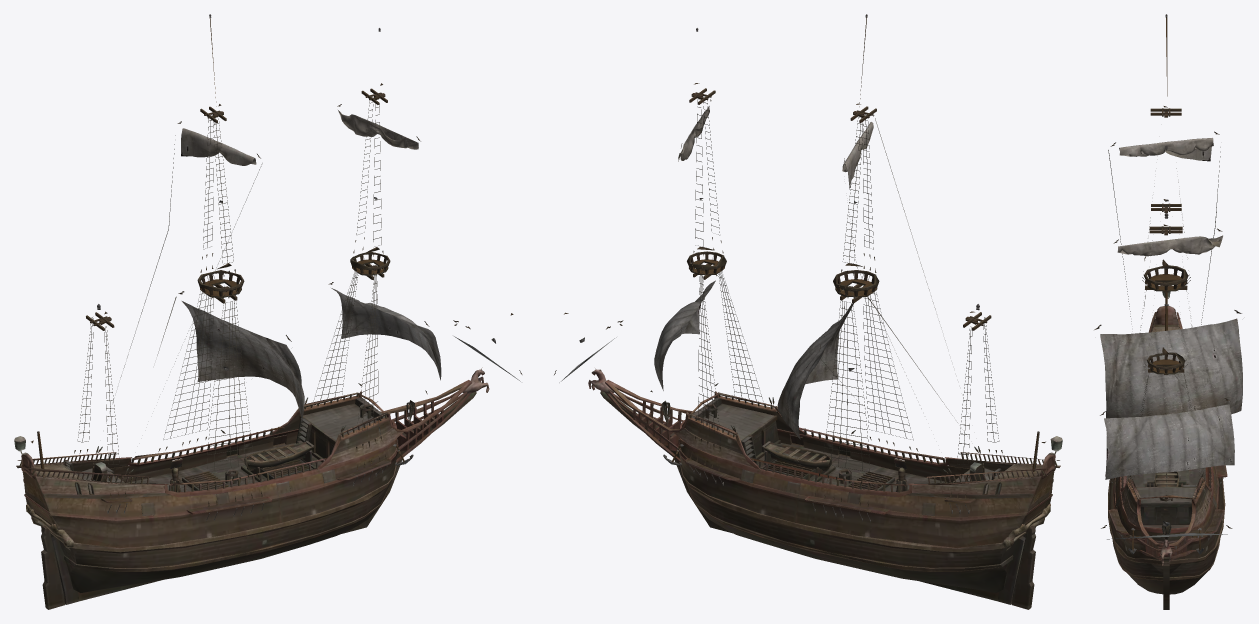
Rendered from dutch_ship_medium_lod1.glb.
3 views of the same model, side by side, from view 1: azimuth 30°, elevation 25°; view 2: azimuth 150°, elevation 25°; view 3: azimuth 270°, elevation 25° (orthographic). The views are drawn at different scales.
Visible parts, largest first — view 1: dutch_ship_medium_hull, dutch_ship_medium_sails, dutch_ship_medium_rigging; view 2: dutch_ship_medium_hull, dutch_ship_medium_rigging, dutch_ship_medium_sails; view 3: dutch_ship_medium_sails, dutch_ship_medium_hull, dutch_ship_medium_rigging.
Boxes of the visible parts, x1,y1,x2,y2 form: dutch_ship_medium_hull: [14, 367, 489, 609]; dutch_ship_medium_sails: [181, 110, 441, 423]; dutch_ship_medium_rigging: [31, 14, 522, 520]; dutch_ship_medium_hull: [588, 368, 1062, 609]; dutch_ship_medium_rigging: [554, 14, 1045, 522]; dutch_ship_medium_sails: [654, 106, 873, 439]; dutch_ship_medium_sails: [1100, 138, 1242, 479]; dutch_ship_medium_hull: [1105, 291, 1227, 609]; dutch_ship_medium_rigging: [1094, 14, 1241, 554].
Bounding box in the file's own units: 23.12 × 24.66 × 6.49.
Materials: 3 (3 with a texture image).
